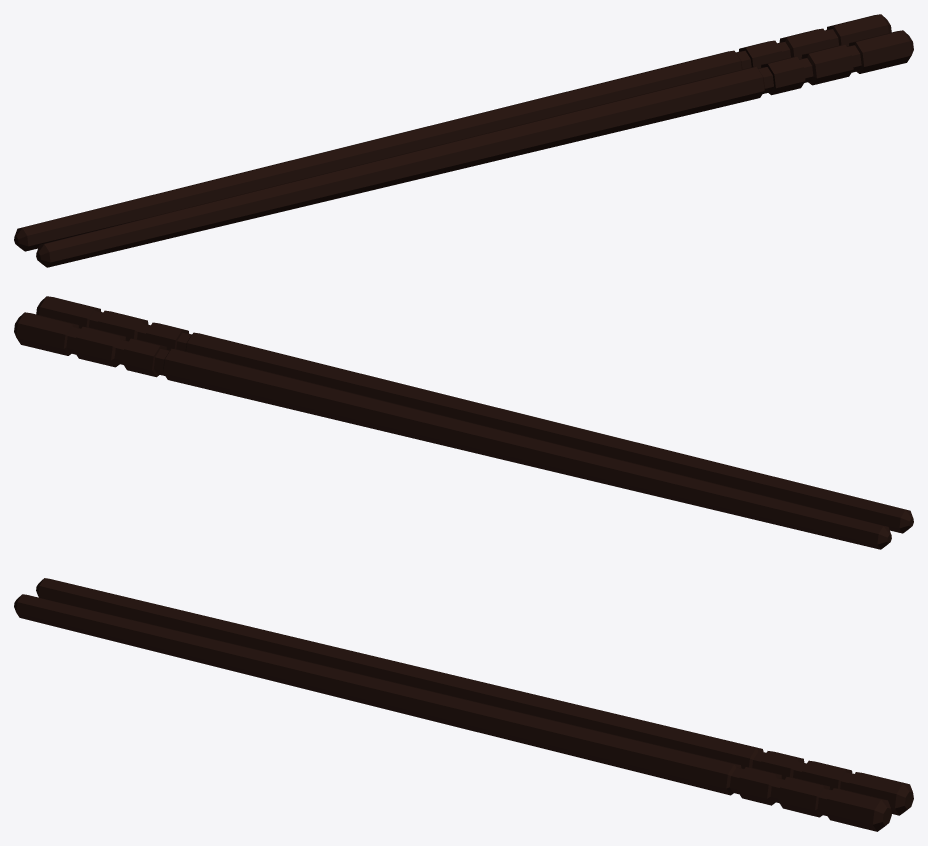
Rendered from Chopsticks.obj.
The picture shows the model from 3 angles, top to bottom: view 1: azimuth 30°, elevation 25°; view 2: azimuth 150°, elevation 25°; view 3: azimuth 330°, elevation 25°; orthographic projection.
Size of the model in its own units: 1 by 0.0326 by 0.0774.
